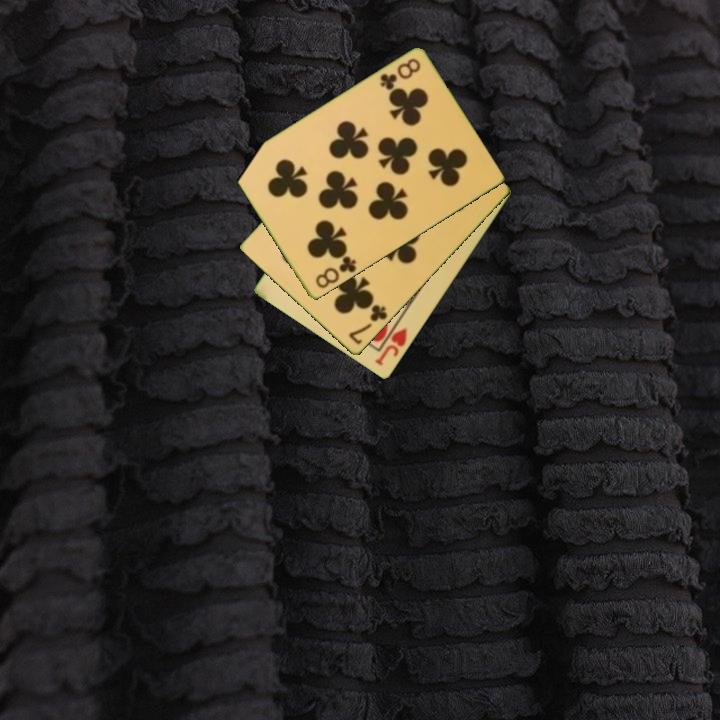7c: (345, 301, 390, 348)
8c: (312, 250, 359, 292), (376, 55, 423, 94)
Jh: (371, 324, 410, 369)
